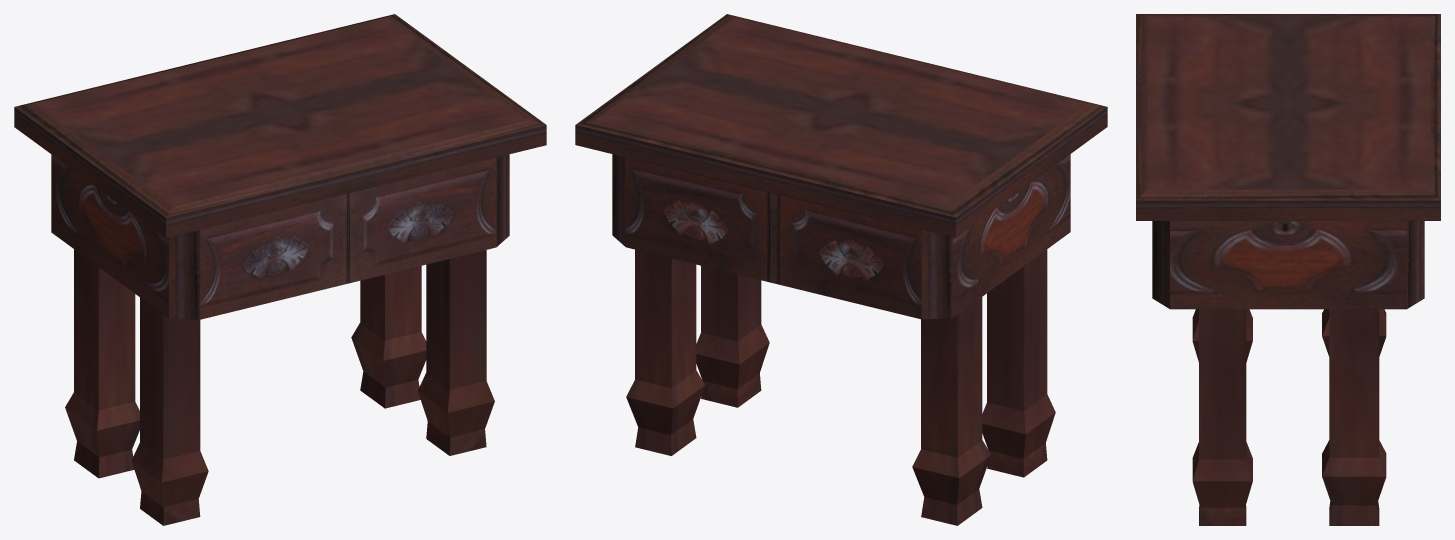
File: dolldresser.fbx
3 views of the same model, side by side, from view 1: azimuth 30°, elevation 25°; view 2: azimuth 150°, elevation 25°; view 3: azimuth 270°, elevation 25° (orthographic).
Visible parts, largest first — view 1: dolldresser; view 2: dolldresser; view 3: dolldresser.
Boxes of the visible parts, box(x1,y1,x2,y2) form: dolldresser: box(14, 14, 546, 525); dolldresser: box(575, 14, 1107, 525); dolldresser: box(1136, 14, 1440, 525).
Size of the model in its own units: 224 by 192 by 154.
Materials: 1 (1 with a texture image).
